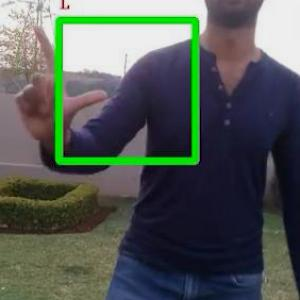land_hand: (9, 21, 109, 147)
